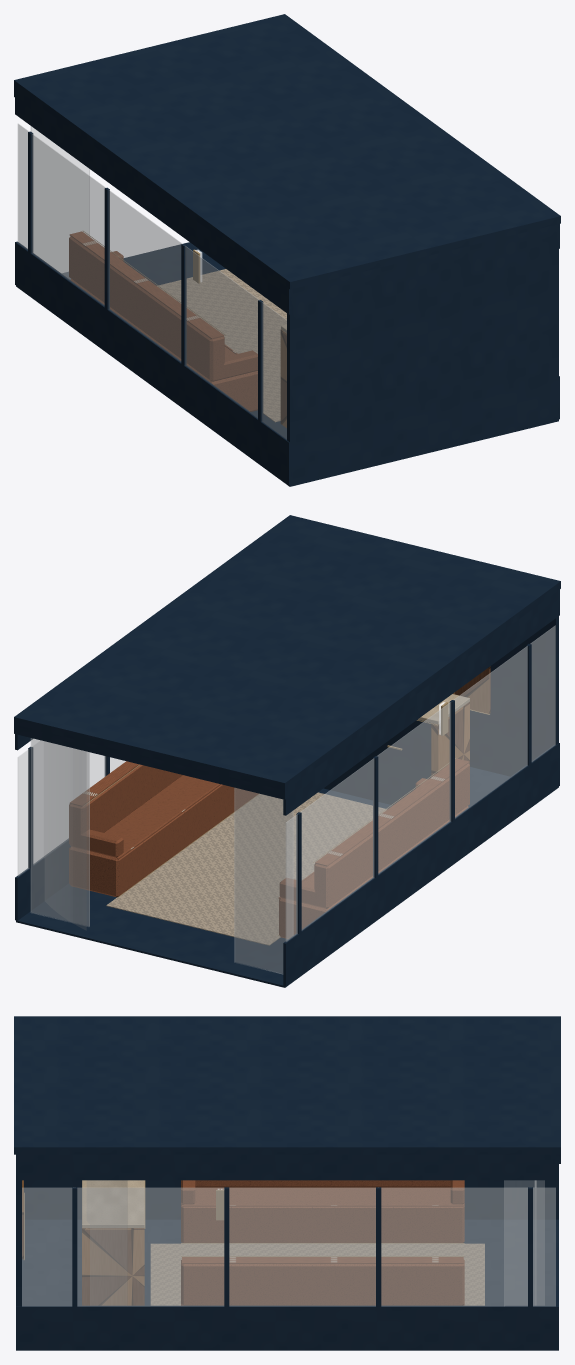
Rendered from yacht_deck_salon.glb.
The picture shows the model from 3 angles, top to bottom: view 1: azimuth 30°, elevation 25°; view 2: azimuth 150°, elevation 25°; view 3: azimuth 270°, elevation 25°; orthographic projection.
Parts seen in each view (by area): view 1: floor, side_glass, banquettes, rug, banquette_stitch, marquetry_panels; view 2: floor, side_glass, banquettes, rug, banquette_stitch, marquetry_panels, lintel_thread; view 3: floor, side_glass, banquettes, rug, marquetry_panels, bar_slab, banquette_stitch, lintel_thread.
Part boxes in pixels (x1,y1,x2,y2): floor: (14,14,560,486); side_glass: (17,123,286,439); banquettes: (69,236,257,411); rug: (157,269,286,422); banquette_stitch: (70,231,237,354); marquetry_panels: (280,329,286,427); floor: (14,515,560,987); side_glass: (17,625,555,974); banquettes: (69,763,469,938); rug: (106,792,386,945); banquette_stitch: (70,758,469,898); marquetry_panels: (431,666,490,776); lintel_thread: (83,702,489,935); floor: (14,1016,560,1350); side_glass: (22,1180,555,1306); banquettes: (181,1180,464,1305); rug: (150,1243,484,1305); marquetry_panels: (22,1180,144,1305); bar_slab: (82,1180,144,1227); banquette_stitch: (182,1205,463,1263); lintel_thread: (24,1180,464,1259).
Size of the model in its own units: 3.06 by 2.22 by 5.4.
10 materials, 7 textured.
